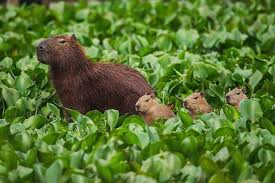capivara: (36, 34, 157, 115), (132, 92, 177, 118), (183, 90, 215, 115), (226, 85, 251, 107)
